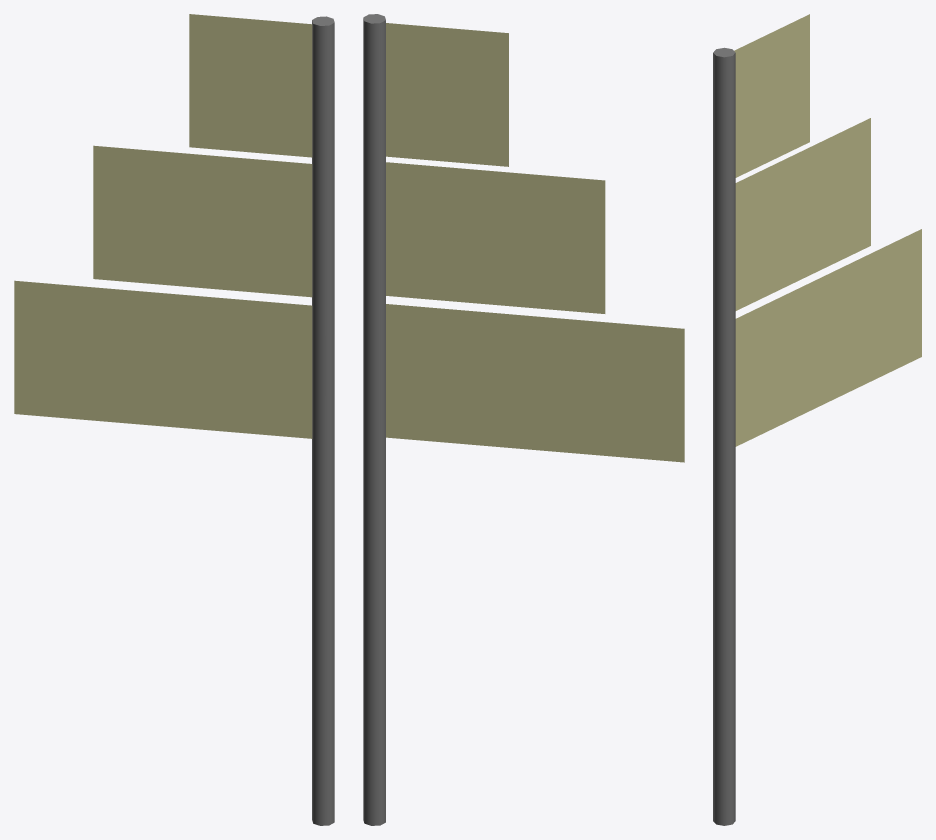
3 views of the same model, side by side, from view 1: azimuth 30°, elevation 25°; view 2: azimuth 210°, elevation 25°; view 3: azimuth 270°, elevation 25° (orthographic). The views are drawn at different scales.
Visible parts, largest first — view 1: flag, Cylinder; view 2: flag, Cylinder; view 3: flag, Cylinder.
Part boxes in pixels (box(x1,y1,x2,y2)): flag: box(14, 14, 312, 438); Cylinder: box(312, 16, 334, 825); flag: box(386, 23, 684, 462); Cylinder: box(363, 14, 385, 825); flag: box(734, 14, 921, 446); Cylinder: box(713, 47, 735, 825).
Bounding box in the file's own units: 0.4252 × 1.5 × 0.3692.
